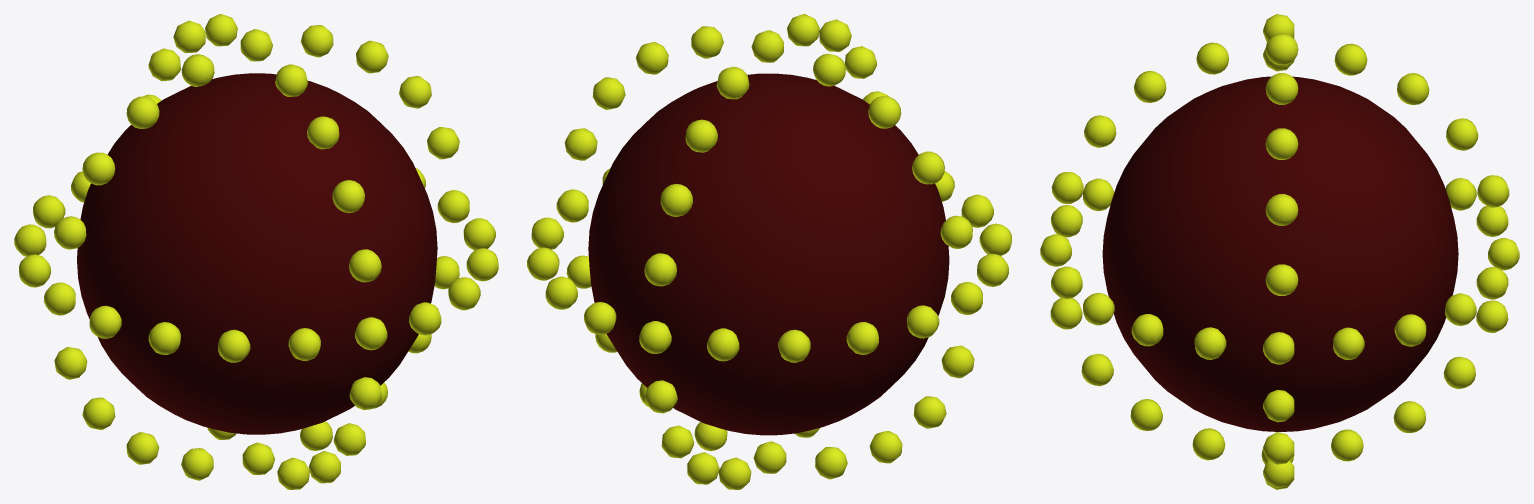
Rendered from nave5.fbx.
3 views of the same model, side by side, from view 1: azimuth 30°, elevation 25°; view 2: azimuth 150°, elevation 25°; view 3: azimuth 270°, elevation 25° (orthographic).
Parts seen in each view (by area): view 1: Sphere, Sphere.001; view 2: Sphere, Sphere.001; view 3: Sphere, Sphere.001.
Boxes of the visible parts, bbox=[...] form: Sphere: bbox=[77, 73, 437, 434]; Sphere.001: bbox=[14, 14, 498, 489]; Sphere: bbox=[588, 73, 949, 435]; Sphere.001: bbox=[527, 14, 1011, 489]; Sphere: bbox=[1102, 76, 1458, 431]; Sphere.001: bbox=[1040, 14, 1519, 489].
Size of the model in its own units: 58.4 by 58.4 by 58.4.
